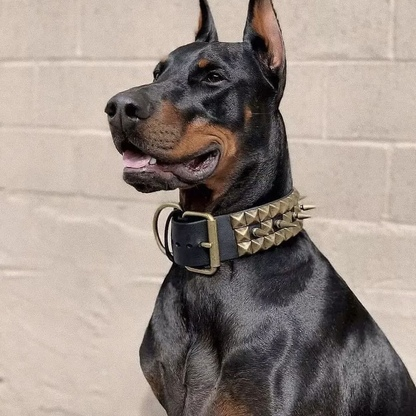doberman: (93, 5, 416, 406)
